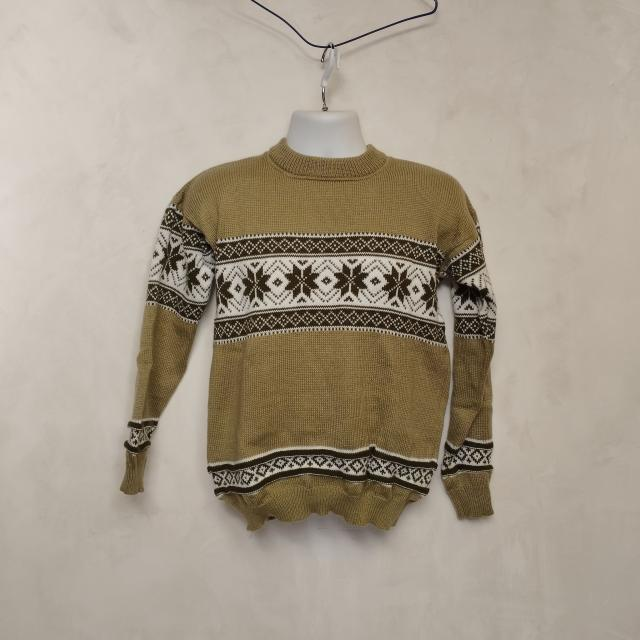Chompa: (120, 112, 498, 532)
